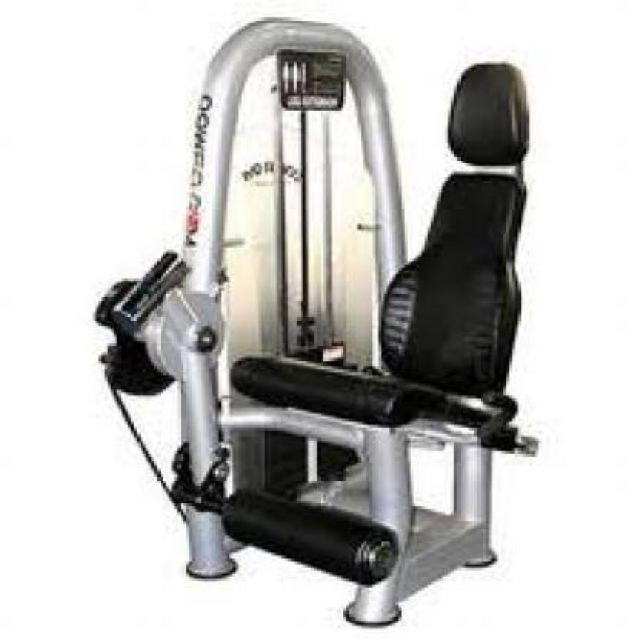leg extension: (89, 9, 571, 636)
